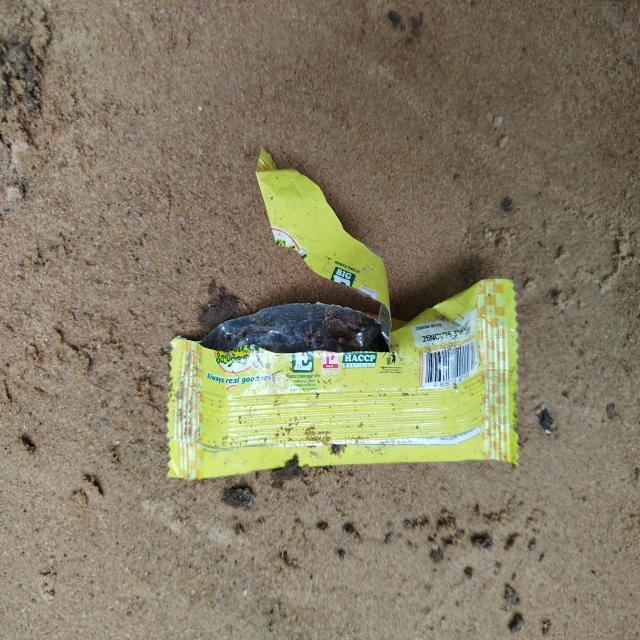residual: (154, 142, 534, 499)
